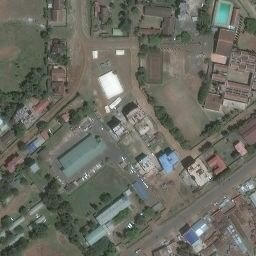tree: (124, 227, 140, 239), (98, 192, 112, 203), (69, 109, 80, 123), (134, 214, 145, 225), (181, 31, 191, 42), (36, 121, 48, 130), (17, 141, 26, 150), (131, 6, 140, 15), (20, 177, 28, 185), (10, 188, 19, 195), (19, 206, 26, 214), (40, 30, 47, 38), (221, 130, 229, 136)
